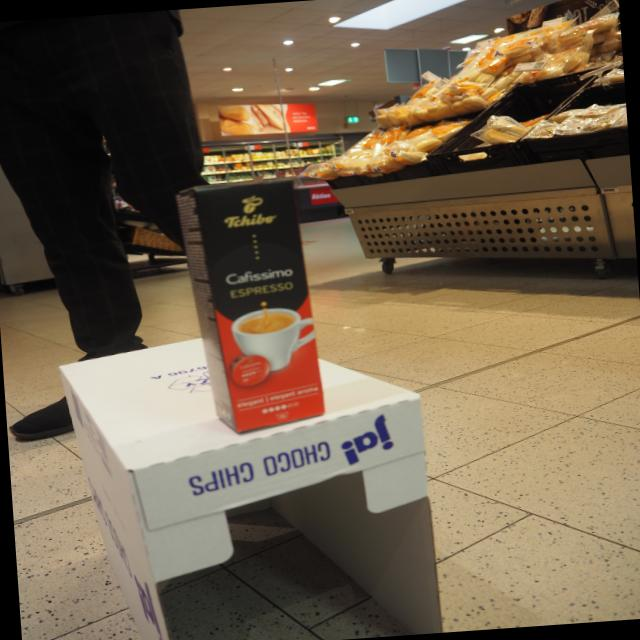Simo Es Elegant: (162, 175, 329, 440)
